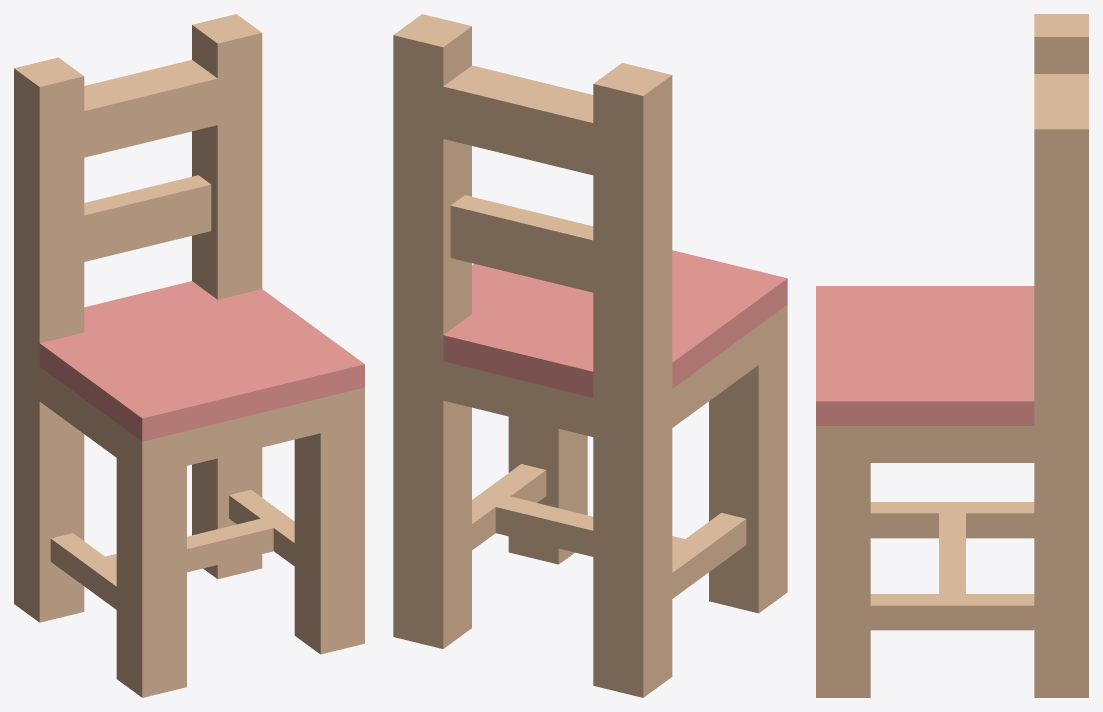
Rendered from furn_ichair.glb.
3 views of the same model, side by side, from view 1: azimuth 30°, elevation 25°; view 2: azimuth 150°, elevation 25°; view 3: azimuth 270°, elevation 25° (orthographic). The views are drawn at different scales.
Visible parts, largest first — view 1: chairCushion(Clone); view 2: chairCushion(Clone); view 3: chairCushion(Clone).
Part boxes in pixels (x1,y1,x2,y2): chairCushion(Clone): (14,14,364,697); chairCushion(Clone): (393,14,787,697); chairCushion(Clone): (816,14,1088,697).
Bounding box in the file's own units: 0.2 × 0.46 × 0.2.
1 material, 1 textured.
